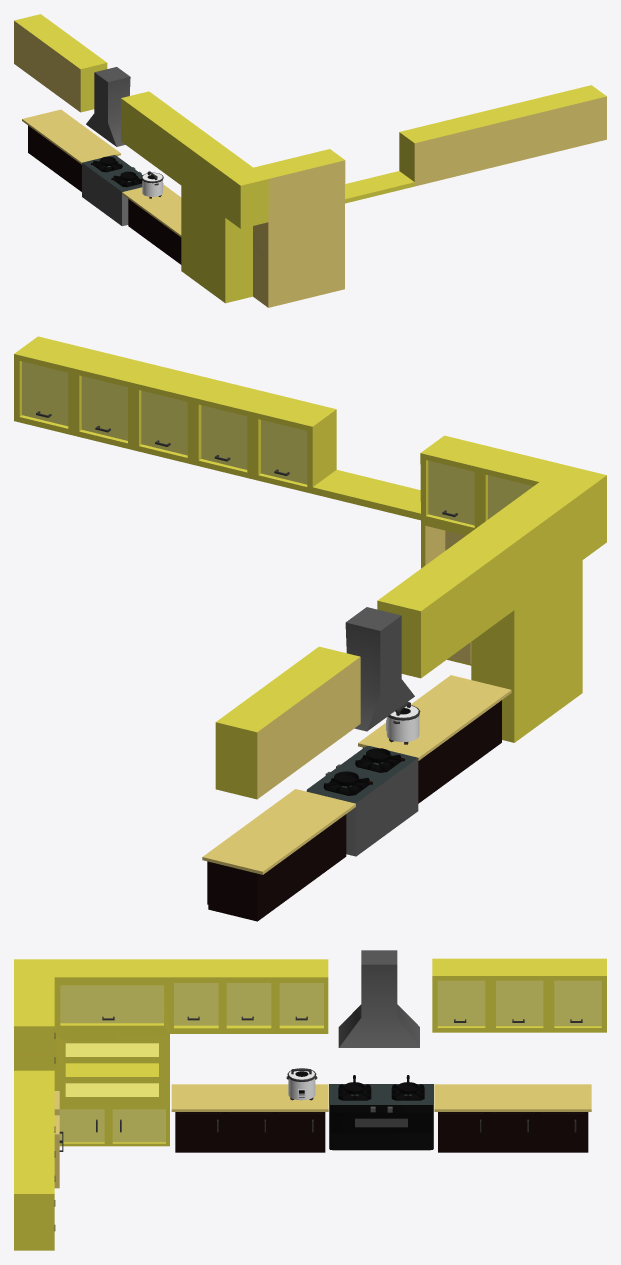
Rendered from DECORATION_PRP.fbx.
3 views of the same model, one above another, from view 1: azimuth 30°, elevation 25°; view 2: azimuth 150°, elevation 25°; view 3: azimuth 270°, elevation 25° (orthographic). The views are drawn at different scales.
Visible parts, largest first — view 1: DECORATION_PRP_002, DECORATION_PRP_001, DECORATION_PRP_003, TABLE_PRP_004, TABLE_PRP_003, Box012, Box013, OLLA ARROZERA_PRP; view 2: DECORATION_PRP_002, DECORATION_PRP_001, DECORATION_PRP_003, TABLE_PRP_004, TABLE_PRP_003, Box012, Box013, OLLA ARROZERA_PRP; view 3: DECORATION_PRP_002, DECORATION_PRP_003, TABLE_PRP_004, TABLE_PRP_003, DECORATION_PRP_001, Box012, Box013, OLLA ARROZERA_PRP.
Boxes of the visible parts, x1,y1,x2,y2 form: DECORATION_PRP_002: [121, 91, 345, 307]; DECORATION_PRP_001: [345, 85, 606, 203]; DECORATION_PRP_003: [14, 14, 107, 112]; TABLE_PRP_004: [22, 109, 120, 191]; TABLE_PRP_003: [122, 185, 181, 264]; Box012: [82, 155, 142, 226]; Box013: [86, 67, 130, 146]; OLLA ARROZERA_PRP: [141, 171, 163, 198]; DECORATION_PRP_002: [377, 435, 606, 742]; DECORATION_PRP_001: [14, 336, 420, 520]; DECORATION_PRP_003: [215, 646, 360, 799]; TABLE_PRP_004: [202, 789, 355, 921]; TABLE_PRP_003: [358, 675, 511, 803]; Box012: [306, 746, 418, 856]; Box013: [345, 607, 414, 731]; OLLA ARROZERA_PRP: [386, 702, 420, 744]; DECORATION_PRP_002: [14, 959, 328, 1188]; DECORATION_PRP_003: [432, 958, 606, 1032]; TABLE_PRP_004: [434, 1084, 591, 1152]; TABLE_PRP_003: [171, 1084, 328, 1152]; DECORATION_PRP_001: [14, 1070, 55, 1250]; Box012: [329, 1084, 433, 1150]; Box013: [338, 950, 419, 1047]; OLLA ARROZERA_PRP: [286, 1068, 317, 1100].
Size of the model in its own units: 547 by 193 by 583.
